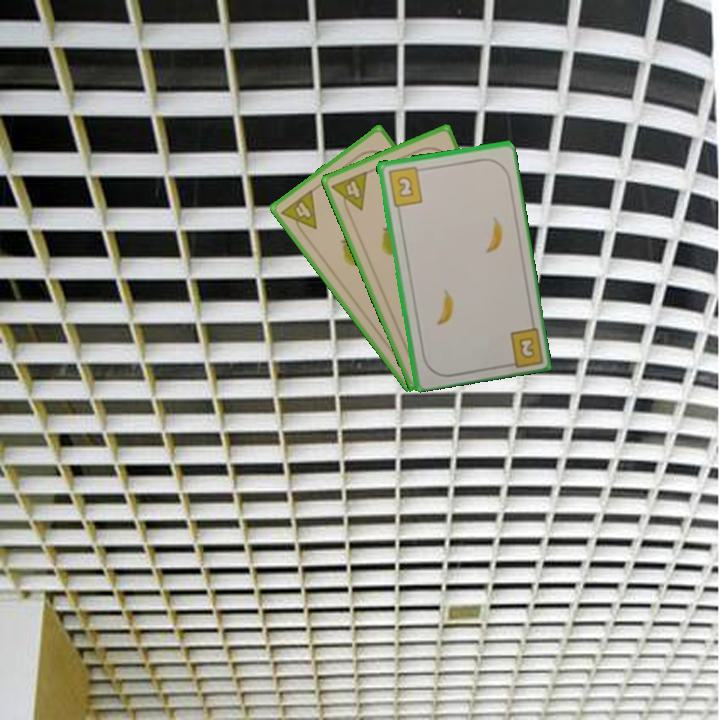2b: (500, 322, 544, 369), (384, 163, 426, 209)
4p: (277, 186, 320, 240), (328, 167, 370, 218)
